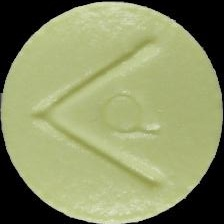63629-2825: (0, 0, 224, 224)
